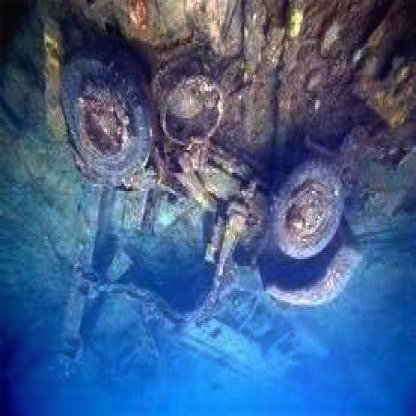metal: (267, 259, 365, 330)
tire: (76, 57, 174, 189), (265, 146, 345, 270)
